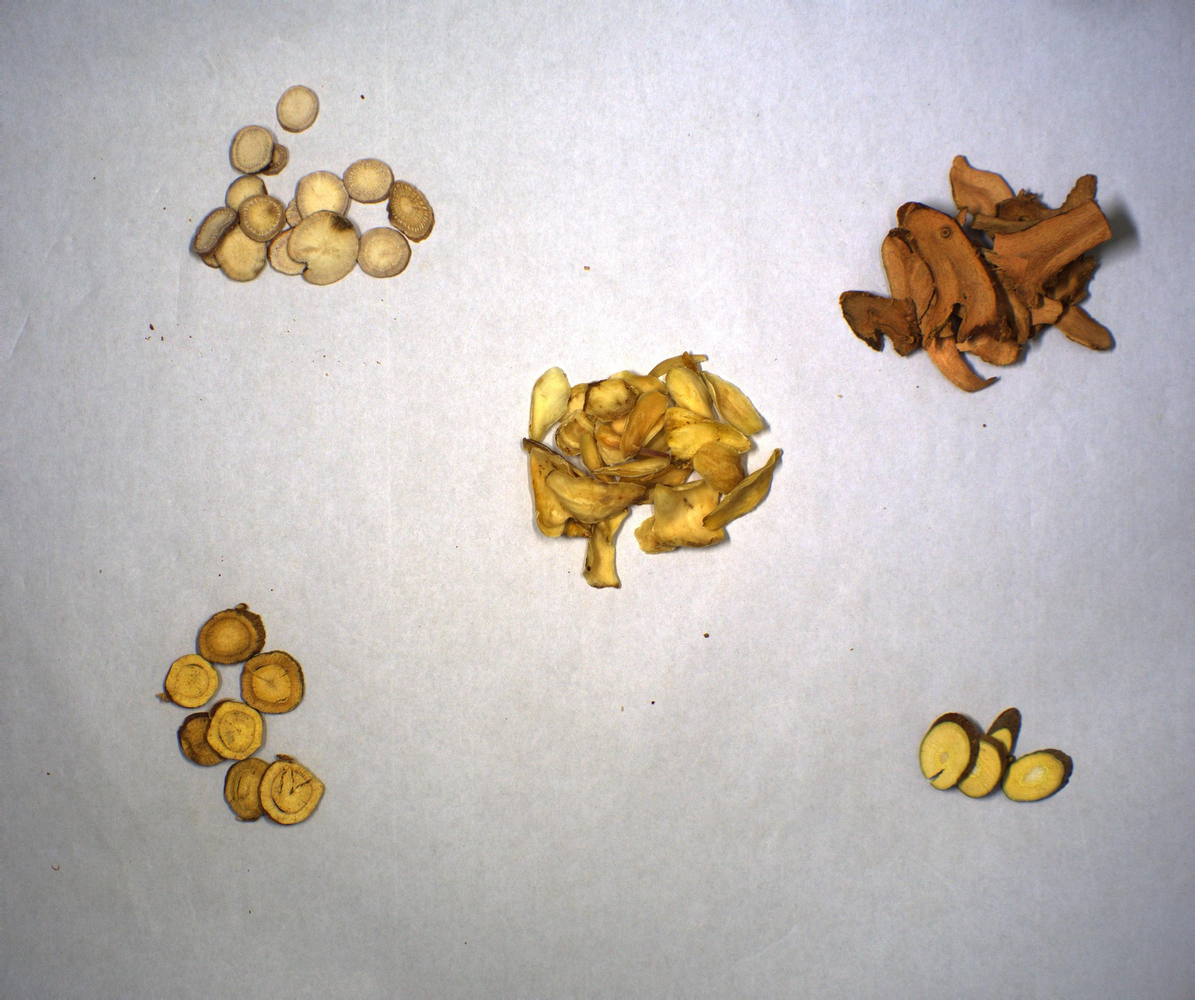baihe: (522, 351, 786, 595)
baishao: (193, 85, 436, 292)
gancaopian: (149, 597, 329, 829)
gaoliangjiang: (839, 151, 1119, 396)
sangzhi: (921, 704, 1081, 813)
